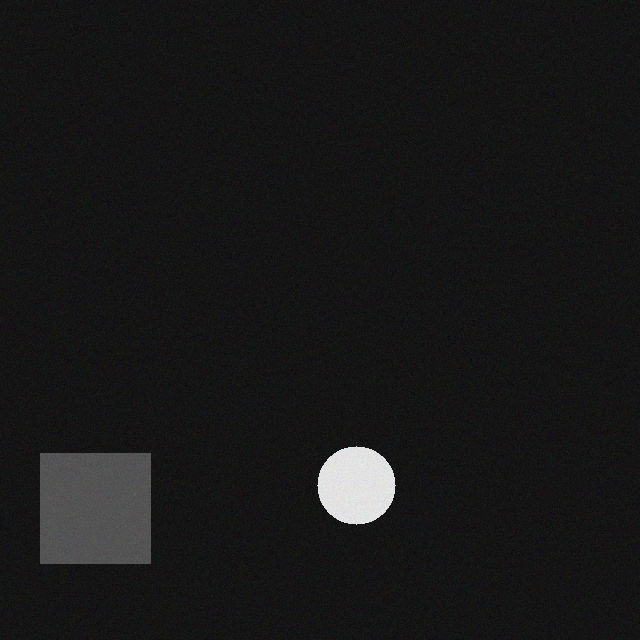circle: (320, 439, 398, 517)
square: (43, 446, 153, 556)
